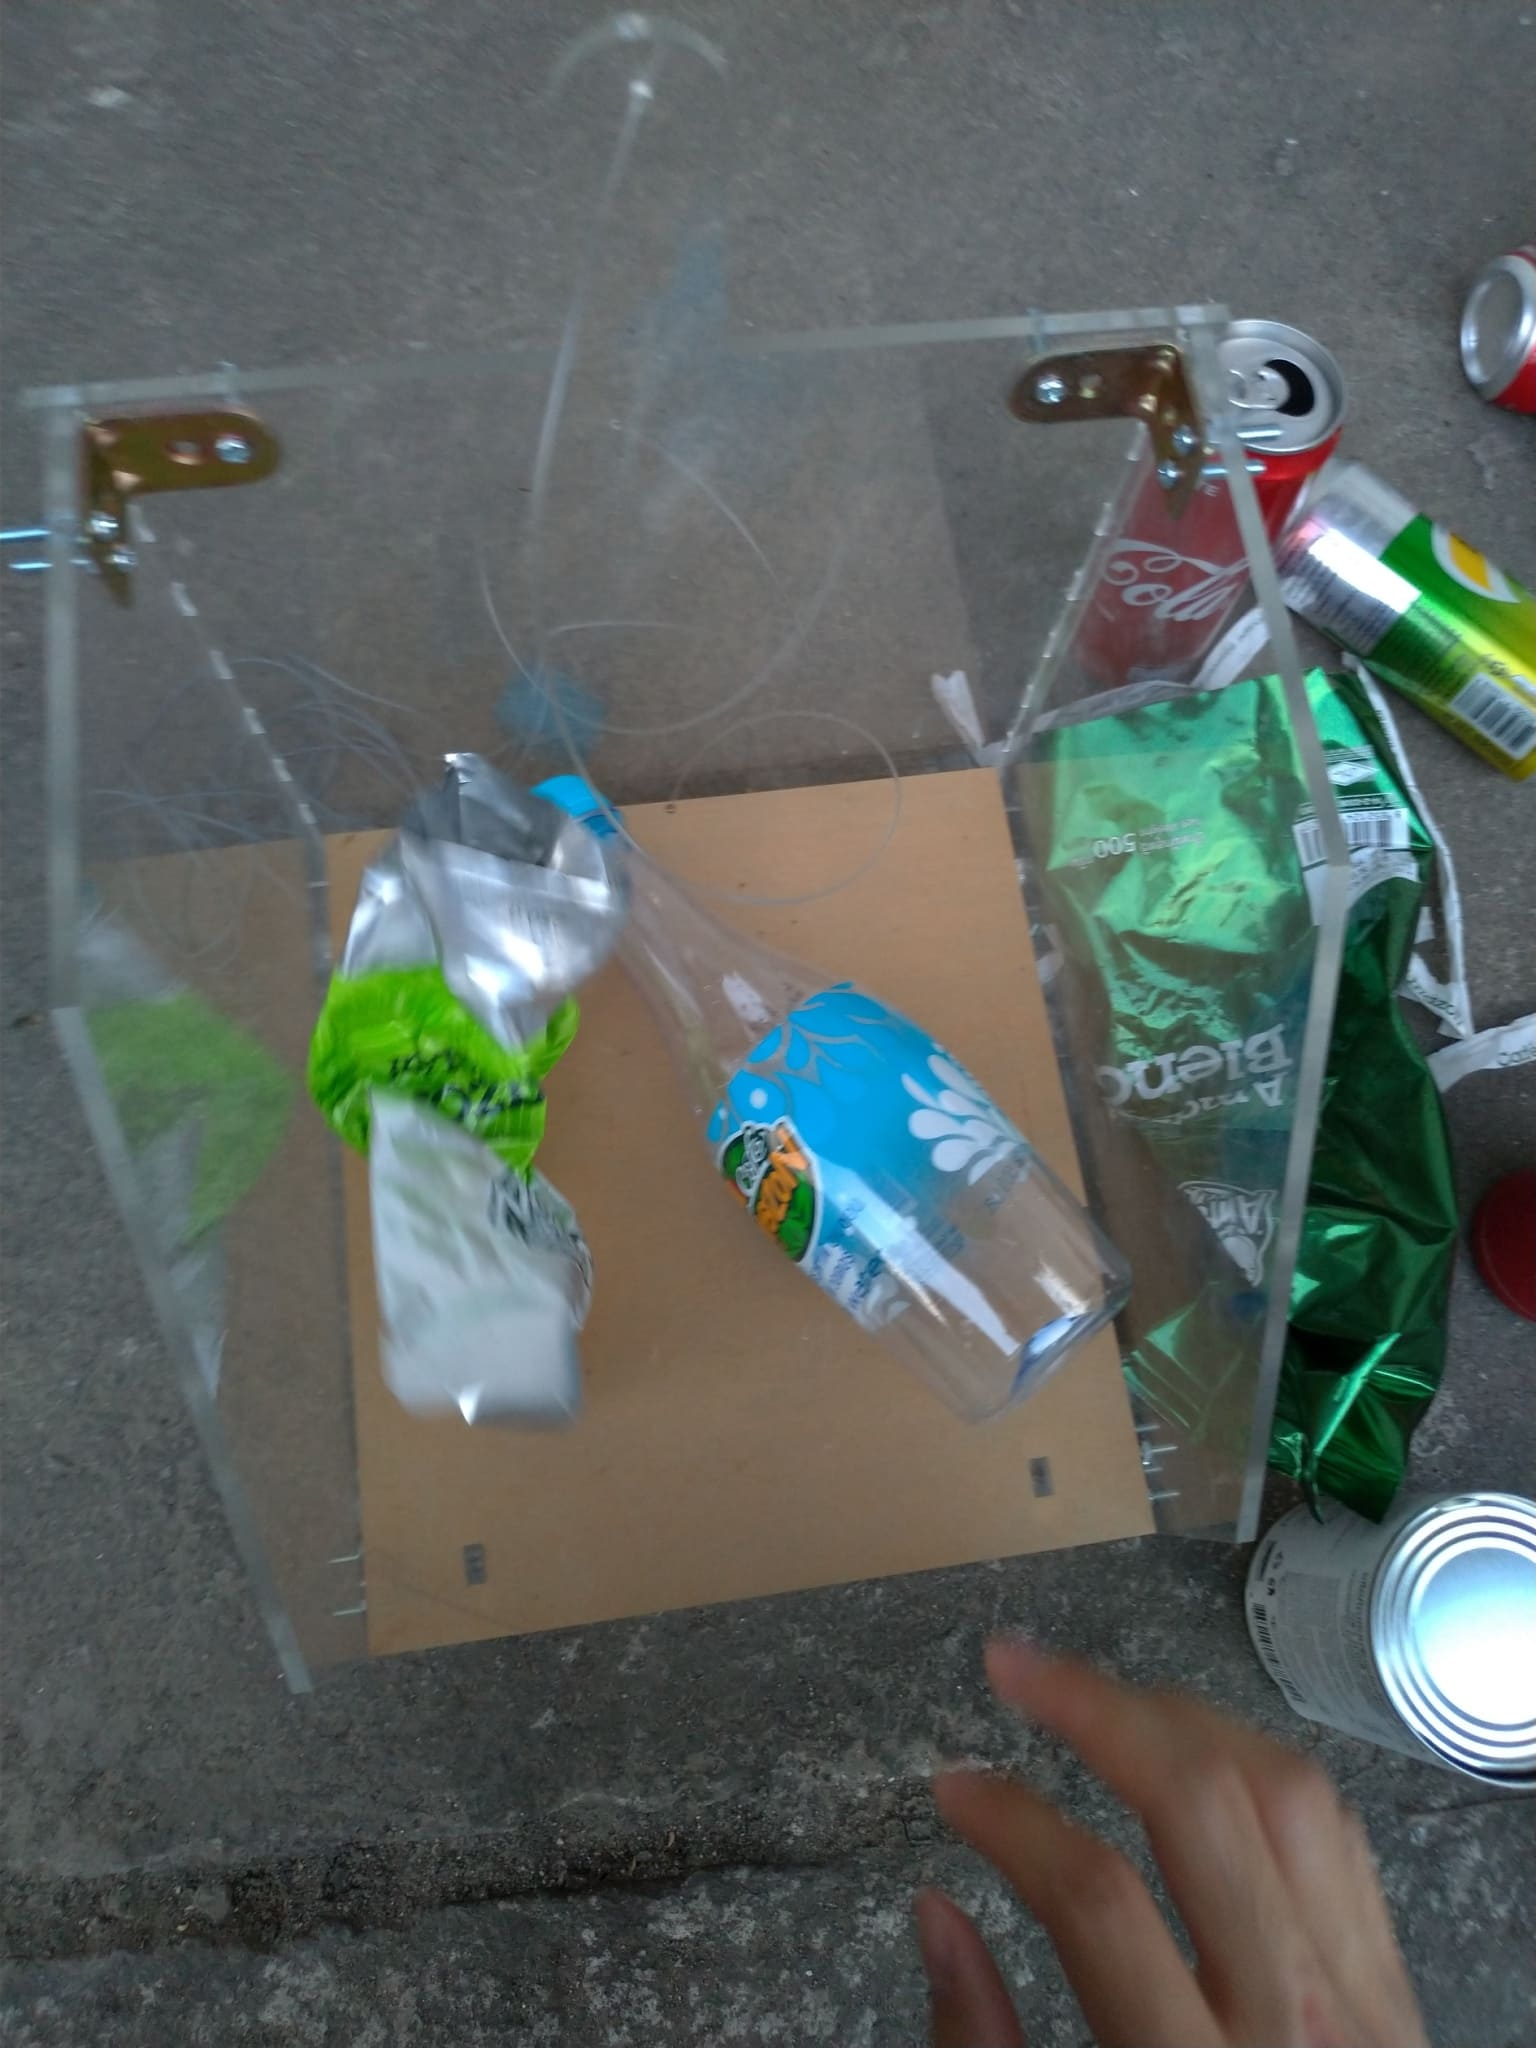AlCan: (1076, 319, 1338, 684), (1273, 458, 1536, 769), (1447, 245, 1536, 403)
Others: (1008, 655, 1467, 1500), (308, 758, 624, 1419)
PlasticBottle: (528, 780, 1131, 1416)
